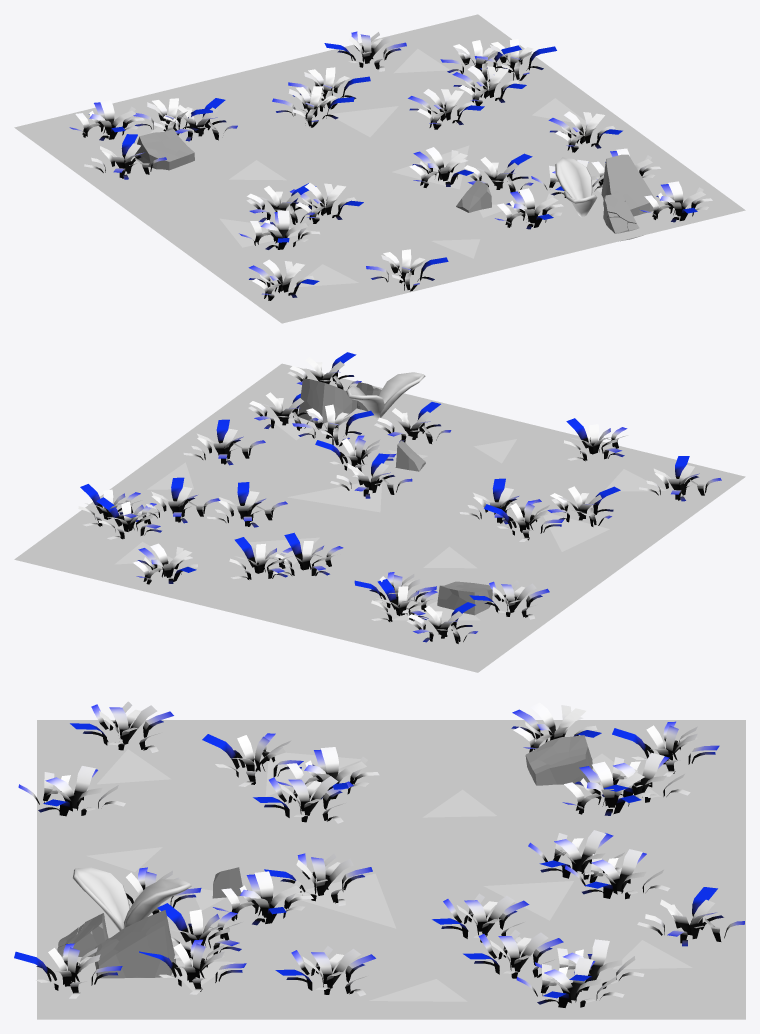
Rendered from TILE_FIELDS_ROCKY.fbx.
The picture shows the model from 3 angles, top to bottom: view 1: azimuth 30°, elevation 25°; view 2: azimuth 150°, elevation 25°; view 3: azimuth 270°, elevation 25°; orthographic projection. The views are drawn at different scales.
Parts seen in each view (by area): view 1: FLOOR.010, !Env_Grass_Square_SingleSided.116, Big_Stone_K, Big_Stone_F, BUSH, Big_Stone_Cracked_D, Stone_Small_O; view 2: FLOOR.010, !Env_Grass_Square_SingleSided.116, Big_Stone_K, BUSH, Big_Stone_F, Stone_Small_O; view 3: FLOOR.010, !Env_Grass_Square_SingleSided.116, Big_Stone_K, BUSH, Big_Stone_F, Big_Stone_Cracked_D, Stone_Small_O.
Boxes of the visible parts, x1,y1,x2,y2 form: FLOOR.010: (14, 14, 745, 323); !Env_Grass_Square_SingleSided.116: (69, 31, 712, 300); Big_Stone_K: (601, 154, 655, 216); Big_Stone_F: (134, 129, 194, 170); BUSH: (555, 157, 597, 217); Big_Stone_Cracked_D: (603, 193, 643, 241); Stone_Small_O: (456, 180, 491, 212); FLOOR.010: (14, 363, 745, 672); !Env_Grass_Square_SingleSided.116: (78, 352, 721, 643); Big_Stone_K: (298, 378, 356, 423); BUSH: (346, 372, 425, 418); Big_Stone_F: (437, 581, 492, 615); Stone_Small_O: (395, 440, 425, 471); FLOOR.010: (37, 720, 745, 1019); !Env_Grass_Square_SingleSided.116: (14, 701, 744, 1007); Big_Stone_K: (94, 910, 176, 978); BUSH: (72, 867, 191, 930); Big_Stone_F: (525, 735, 592, 785); Big_Stone_Cracked_D: (57, 913, 108, 956); Stone_Small_O: (212, 867, 242, 898).
Bounding box in the file's own units: 202 × 28.29 × 207.
